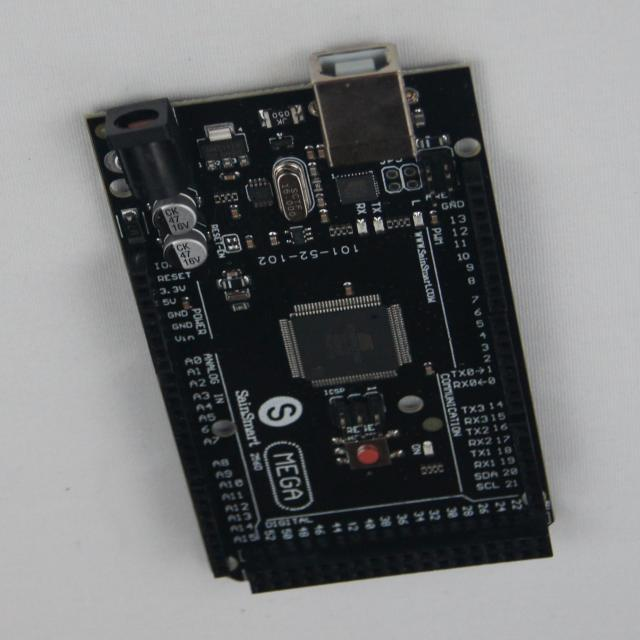Arduino Mega 2560 -Black-: (89, 46, 554, 593)
